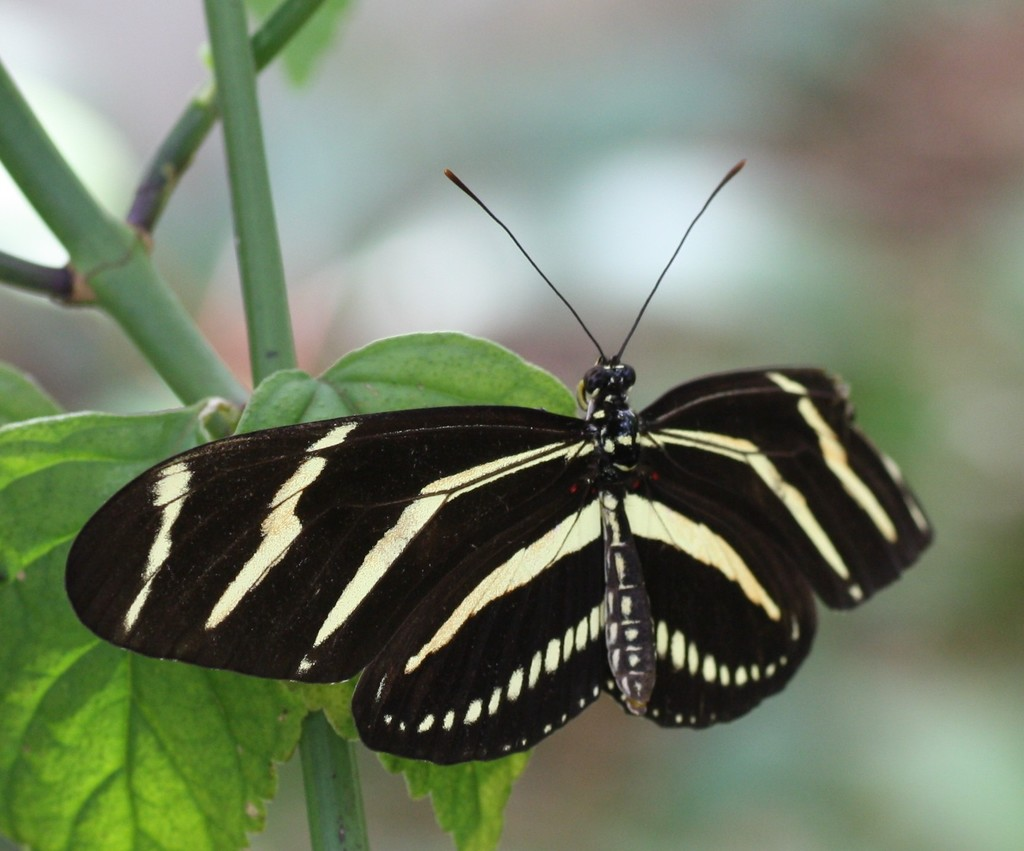Butterfly: (43, 357, 958, 767)
